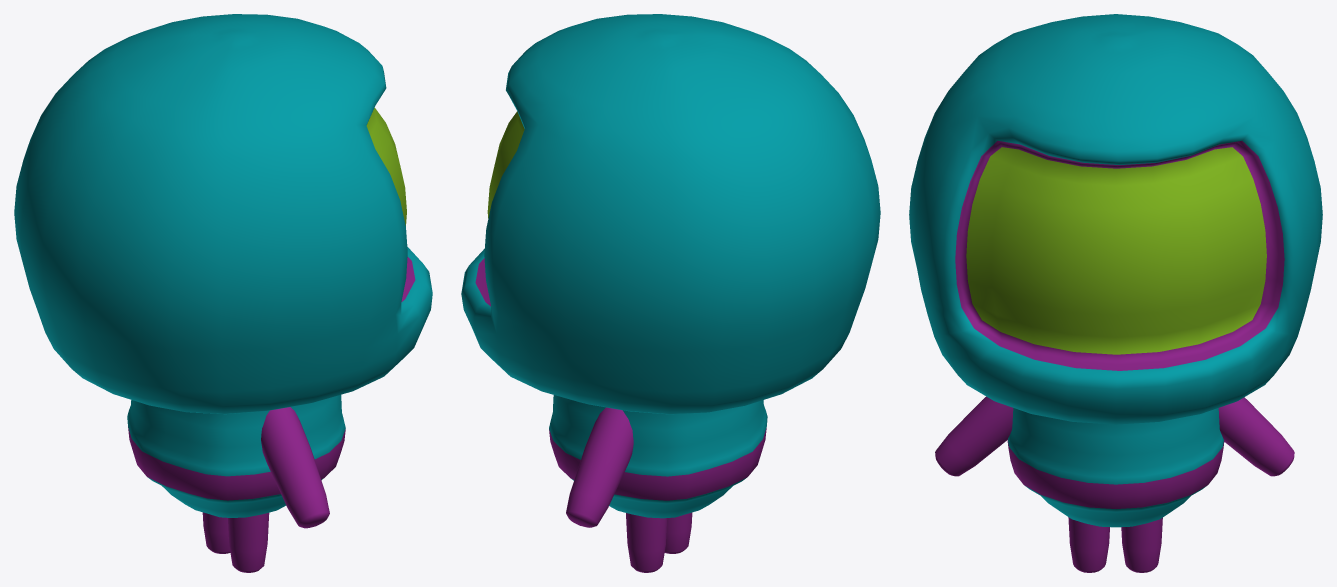
File: spacefolk1_smooth.obj
3 views of the same model, side by side, from view 1: azimuth 30°, elevation 25°; view 2: azimuth 150°, elevation 25°; view 3: azimuth 270°, elevation 25° (orthographic).
Visible parts, largest first — view 1: pSphere3, pCylinder21 group1, group1 pCylinder22, group1 pCylinder23; view 2: pSphere3, group1 pCylinder20, group1 pCylinder23, group1 pCylinder22; view 3: pSphere3, pCylinder21 group1, group1 pCylinder20, group1 pCylinder22, group1 pCylinder23.
Part boxes in pixels (<box>): pSphere3: <box>14,14,432,517</box>; pCylinder21 group1: <box>261,407,329,528</box>; group1 pCylinder22: <box>228,512,269,572</box>; group1 pCylinder23: <box>202,512,230,553</box>; pSphere3: <box>461,14,880,518</box>; group1 pCylinder20: <box>566,407,633,527</box>; group1 pCylinder23: <box>626,513,667,572</box>; group1 pCylinder22: <box>664,512,692,553</box>; pSphere3: <box>909,14,1322,527</box>; pCylinder21 group1: <box>935,396,1013,476</box>; group1 pCylinder20: <box>1218,397,1294,476</box>; group1 pCylinder22: <box>1068,517,1109,572</box>; group1 pCylinder23: <box>1121,517,1162,572</box>.
Bounding box in the file's own units: 1.65 × 2.24 × 1.58.
